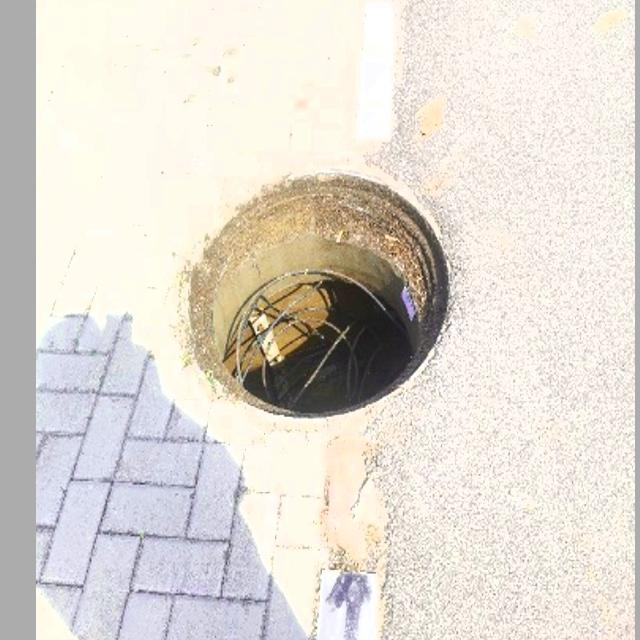lose: (173, 161, 453, 418)
